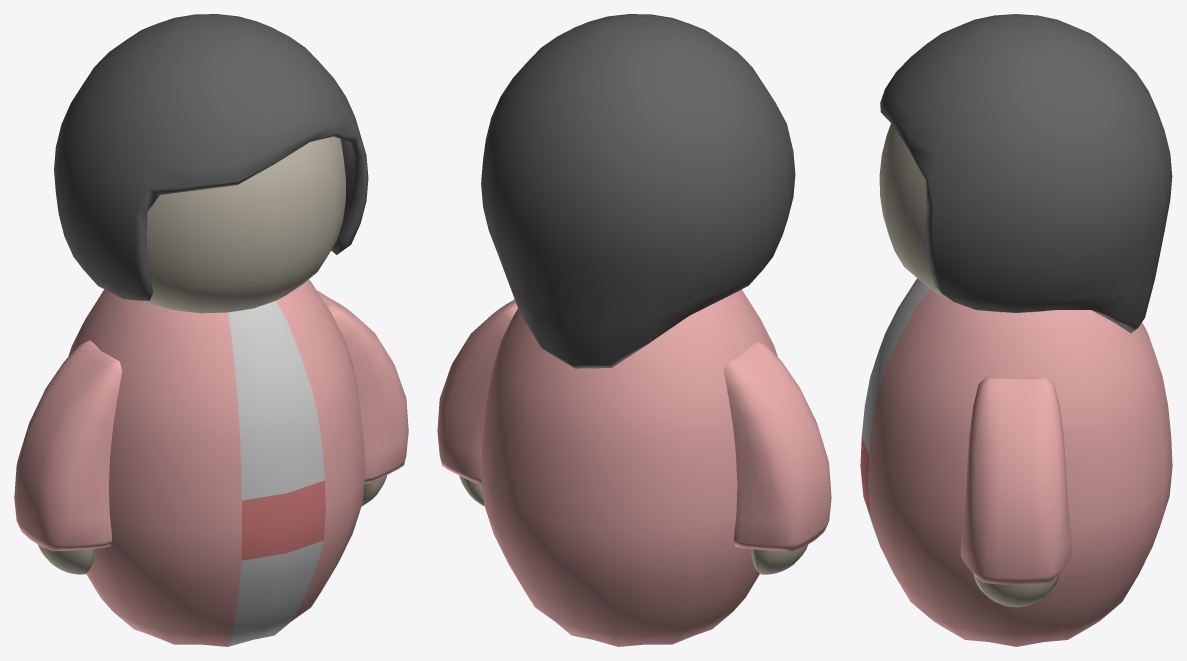
File: Setsuko_Unanimated.fbx
The picture shows the model from 3 angles, left to right: view 1: azimuth 30°, elevation 25°; view 2: azimuth 150°, elevation 25°; view 3: azimuth 270°, elevation 25°; orthographic projection.
Visible parts, largest first — view 1: Torso, Hair, Head, LeftArm1, LeftArm; view 2: Hair, Torso, LeftArm1, LeftArm; view 3: Hair, Torso, LeftArm, Head.
Part boxes in pixels (box(x1,y1,x2,y2)): Torso: box(68, 279, 365, 646); Hair: box(54, 14, 368, 300); Head: box(145, 136, 345, 313); LeftArm1: box(14, 340, 122, 574); LeftArm: box(317, 290, 408, 505); Hair: box(481, 14, 795, 368); Torso: box(481, 289, 777, 646); LeftArm1: box(724, 340, 831, 574); LeftArm: box(437, 299, 517, 506); Hair: box(880, 14, 1172, 333); Torso: box(860, 278, 1172, 646); LeftArm: box(960, 376, 1072, 607); Head: box(879, 123, 1046, 312).
Bounding box in the file's own units: 3.26 × 4.97 × 2.38.
